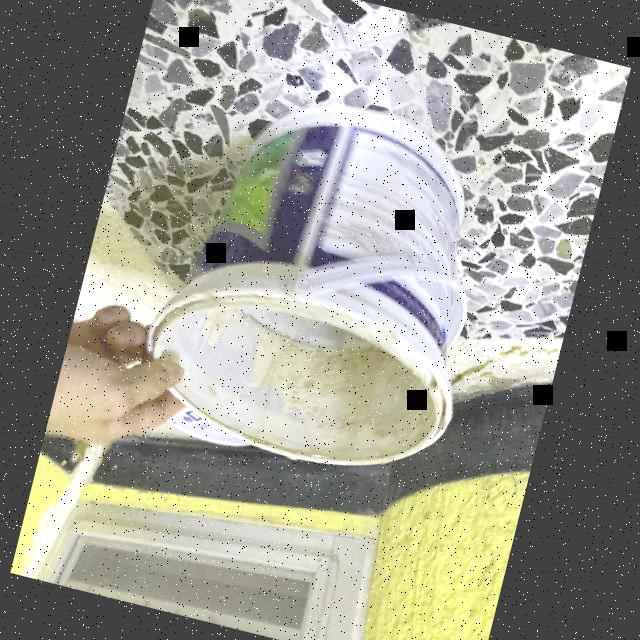paint_bucket: (125, 67, 518, 493)
